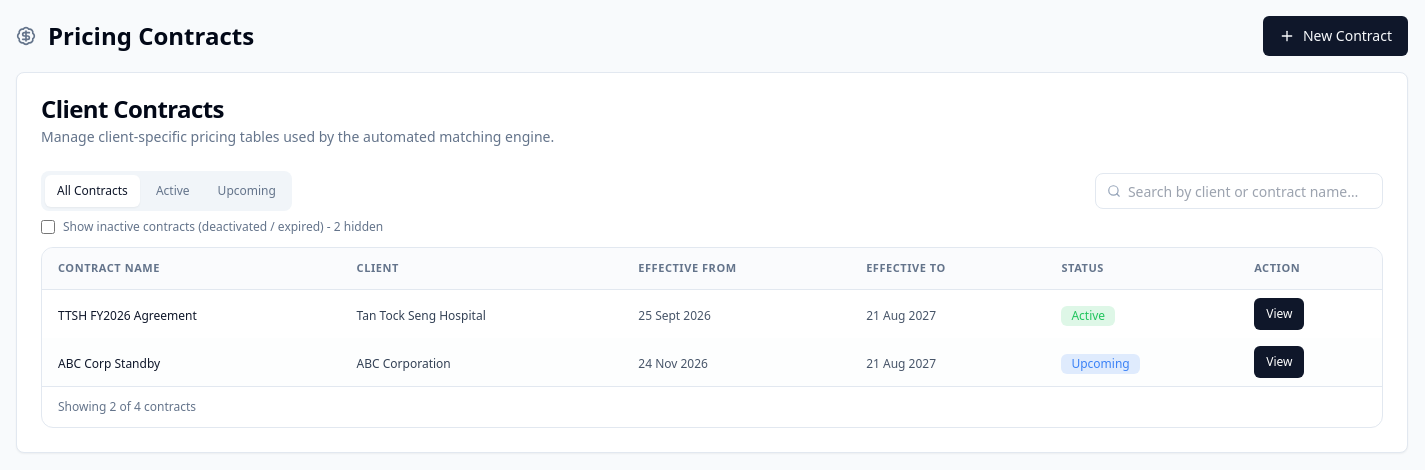
it: PricingContractPage - filtering and search › the Active tab excludes upcoming contracts
expect the text "TTSH FY2026 Agreement" is shown: met, box [58,306,197,324]
Click the button "Active": x=173, y=191 [144,175,202,207]
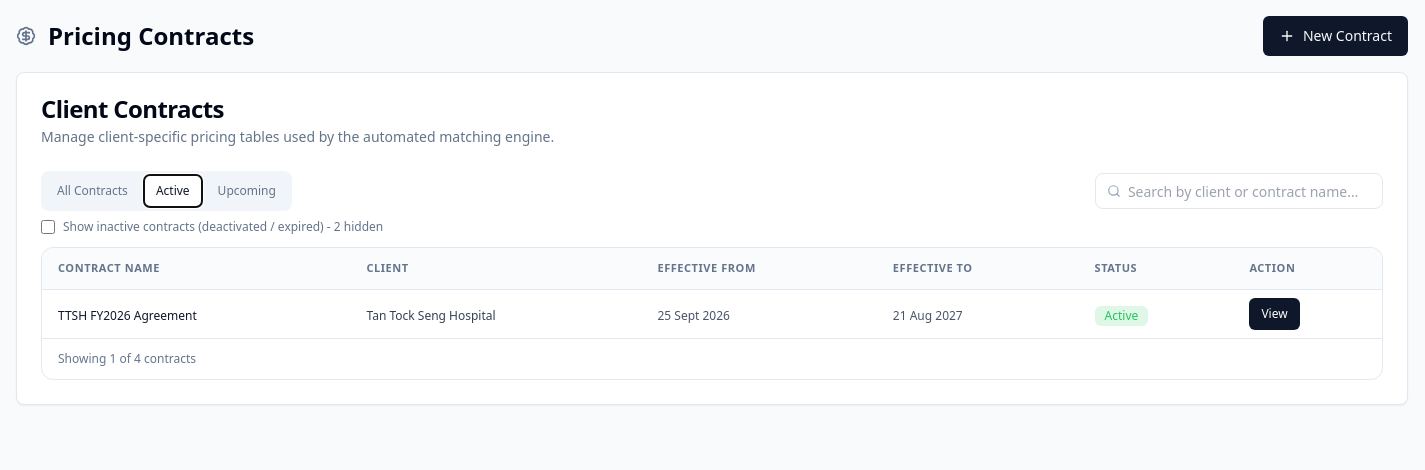
expect the text "TTSH FY2026 Agreement" is shown: met, box [58,306,197,324]
expect the text "ABC Corp Standby" is gone: met
